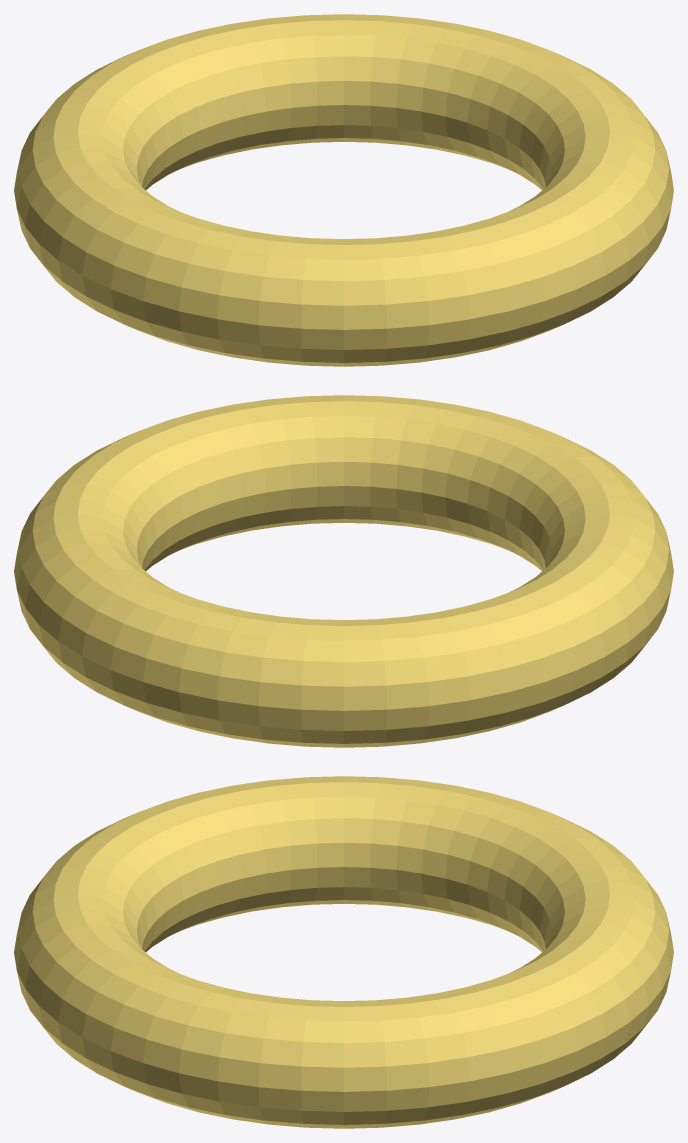
Rendered from g10_ring_detail.glb.
The picture shows the model from 3 angles, top to bottom: view 1: azimuth 30°, elevation 25°; view 2: azimuth 150°, elevation 25°; view 3: azimuth 270°, elevation 25°; orthographic projection.
Parts seen in each view (by area): view 1: ring; view 2: ring; view 3: ring.
Part boxes in pixels (x1,y1,x2,y2): ring: [14, 14, 673, 366]; ring: [14, 395, 673, 747]; ring: [14, 776, 673, 1128].
Bounding box in the file's own units: 0.062 × 0.012 × 0.062.
